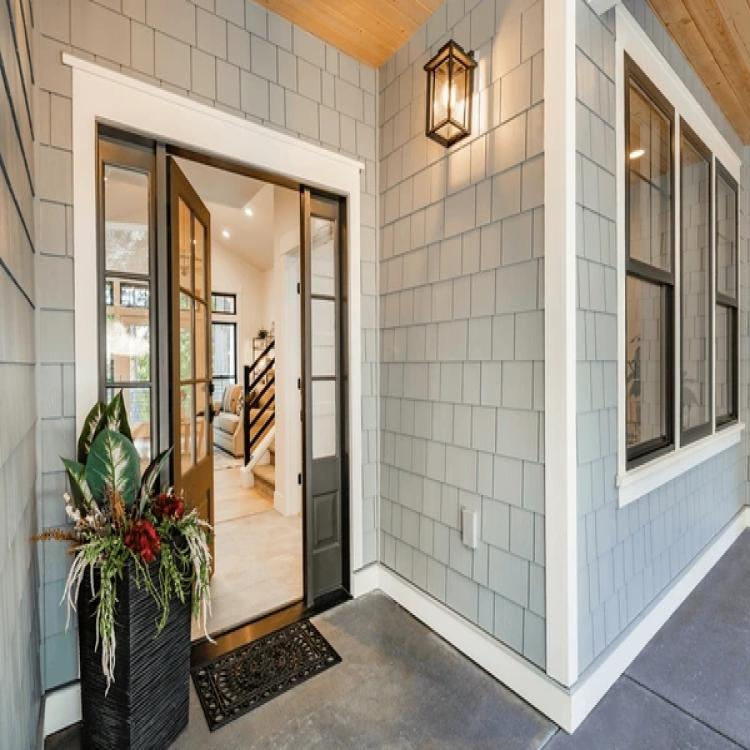OpenDoor: (159, 138, 306, 627)
